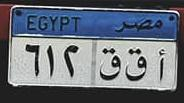1: (45, 42, 57, 80)
2: (60, 43, 81, 79)
6: (24, 43, 42, 79)
alif: (154, 46, 167, 83)
qaaf: (124, 45, 148, 81), (98, 46, 122, 81)
